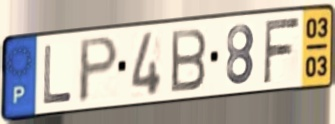4: (129, 29, 164, 99)
8: (225, 22, 256, 87)
B: (169, 26, 209, 95)
F: (261, 14, 302, 86)
L: (42, 42, 75, 106)
P: (76, 34, 122, 107)
